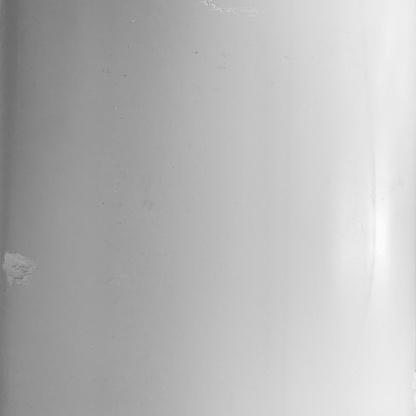sunshang: (1, 249, 46, 289)
